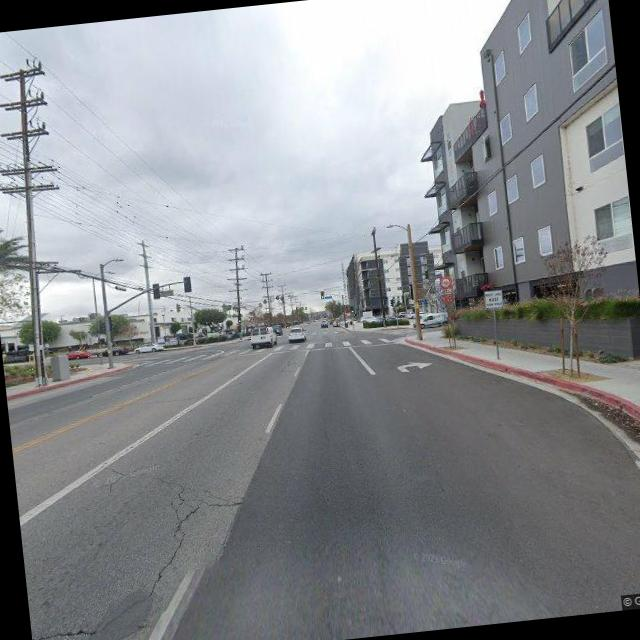crack: (84, 466, 238, 637)
